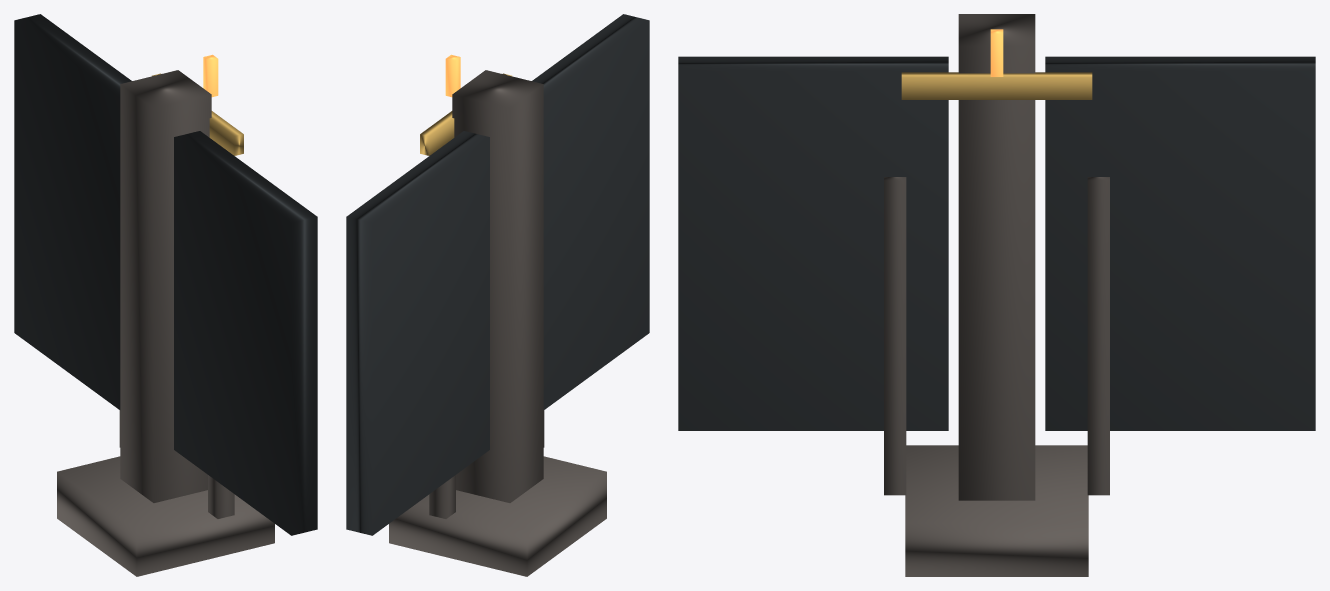
The model's file is solar-yard-radiator-tower-lod1.glb.
3 renders of one model, left to right at view 1: azimuth 30°, elevation 25°; view 2: azimuth 150°, elevation 25°; view 3: azimuth 270°, elevation 25°, orthographic. The views are drawn at different scales.
Parts seen in each view (by area): view 1: solar-yard-radiator-tower-wing-right, solar-yard-radiator-tower-wing-left, solar-yard-radiator-tower-spine, solar-yard-radiator-tower-foot, solar-yard-radiator-tower-gold-baffle, solar-yard-radiator-tower-brace-right, solar-yard-radiator-tower-status; view 2: solar-yard-radiator-tower-wing-left, solar-yard-radiator-tower-wing-right, solar-yard-radiator-tower-spine, solar-yard-radiator-tower-foot, solar-yard-radiator-tower-gold-baffle, solar-yard-radiator-tower-brace-left, solar-yard-radiator-tower-status; view 3: solar-yard-radiator-tower-wing-left, solar-yard-radiator-tower-wing-right, solar-yard-radiator-tower-spine, solar-yard-radiator-tower-foot, solar-yard-radiator-tower-brace-left, solar-yard-radiator-tower-brace-right, solar-yard-radiator-tower-gold-baffle.
Boxes of the visible parts, <box> form: solar-yard-radiator-tower-wing-right: <box>174,131,317,535</box>; solar-yard-radiator-tower-wing-left: <box>14,14,131,409</box>; solar-yard-radiator-tower-spine: <box>120,70,211,502</box>; solar-yard-radiator-tower-foot: <box>57,456,274,576</box>; solar-yard-radiator-tower-gold-baffle: <box>152,73,243,155</box>; solar-yard-radiator-tower-brace-right: <box>208,475,234,518</box>; solar-yard-radiator-tower-status: <box>203,54,218,97</box>; solar-yard-radiator-tower-wing-left: <box>346,131,489,535</box>; solar-yard-radiator-tower-wing-right: <box>532,14,649,409</box>; solar-yard-radiator-tower-spine: <box>452,70,543,502</box>; solar-yard-radiator-tower-foot: <box>389,456,606,576</box>; solar-yard-radiator-tower-gold-baffle: <box>420,73,511,155</box>; solar-yard-radiator-tower-brace-left: <box>429,475,455,518</box>; solar-yard-radiator-tower-status: <box>445,54,460,97</box>; solar-yard-radiator-tower-wing-left: <box>1045,56,1315,430</box>; solar-yard-radiator-tower-wing-right: <box>678,56,948,430</box>; solar-yard-radiator-tower-spine: <box>958,14,1035,500</box>; solar-yard-radiator-tower-foot: <box>905,445,1088,576</box>; solar-yard-radiator-tower-brace-left: <box>1087,177,1109,495</box>; solar-yard-radiator-tower-brace-right: <box>884,177,906,495</box>; solar-yard-radiator-tower-gold-baffle: <box>901,72,1092,99</box>.
Bounding box in the file's own units: 1.48 × 4.73 × 5.14.
